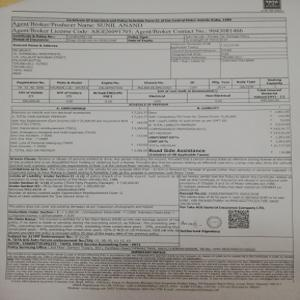table: (10, 15, 289, 102), (9, 105, 291, 157)
text: (4, 251, 296, 294)
